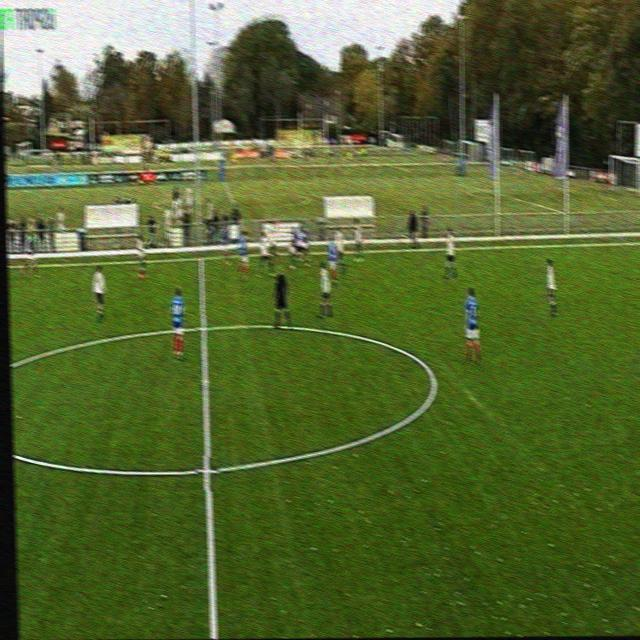halfcircle_bottom: (195, 455, 219, 491)
halfcircle_top: (195, 315, 212, 342)
midline_top_intersection: (196, 250, 205, 268)
